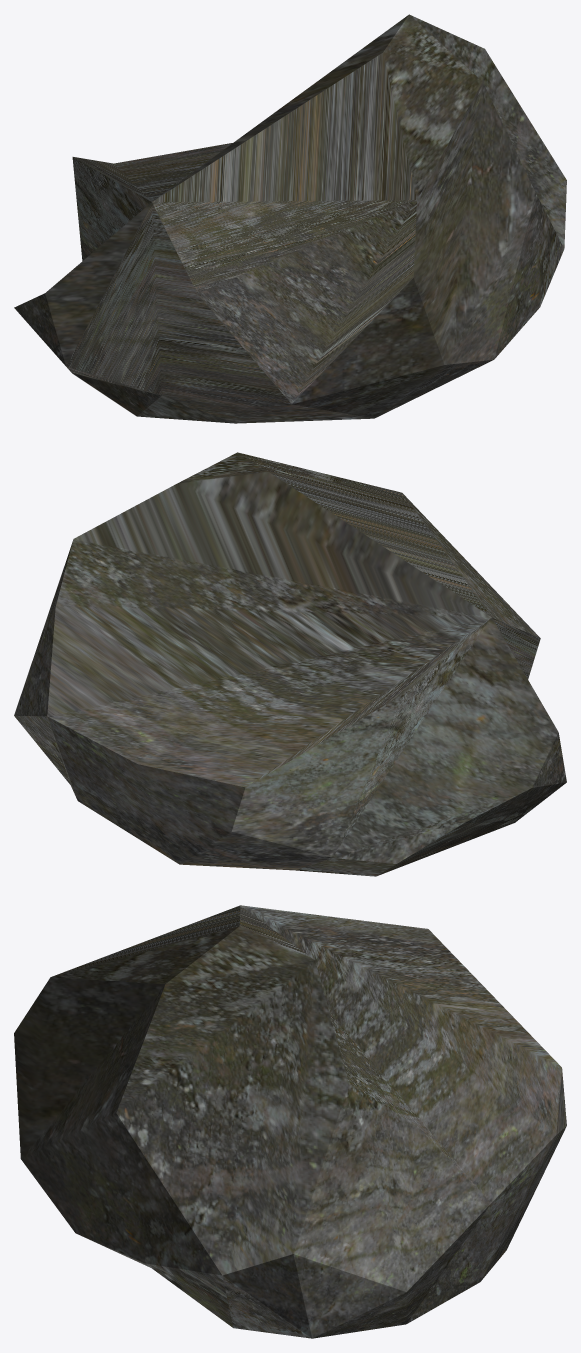
Rendered from Rock4.fbx.
The picture shows the model from 3 angles, top to bottom: view 1: azimuth 30°, elevation 25°; view 2: azimuth 150°, elevation 25°; view 3: azimuth 270°, elevation 25°; orthographic projection. The views are drawn at different scales.
Parts seen in each view (by area): view 1: Rock; view 2: Rock; view 3: Rock.
Part boxes in pixels (bbox=[...]): Rock: bbox=[14, 14, 566, 423]; Rock: bbox=[14, 452, 566, 876]; Rock: bbox=[14, 905, 566, 1338].
Bounding box in the file's own units: 352 × 218 × 290.
1 material, 1 textured.
